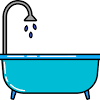bathub: (1, 47, 99, 97)
